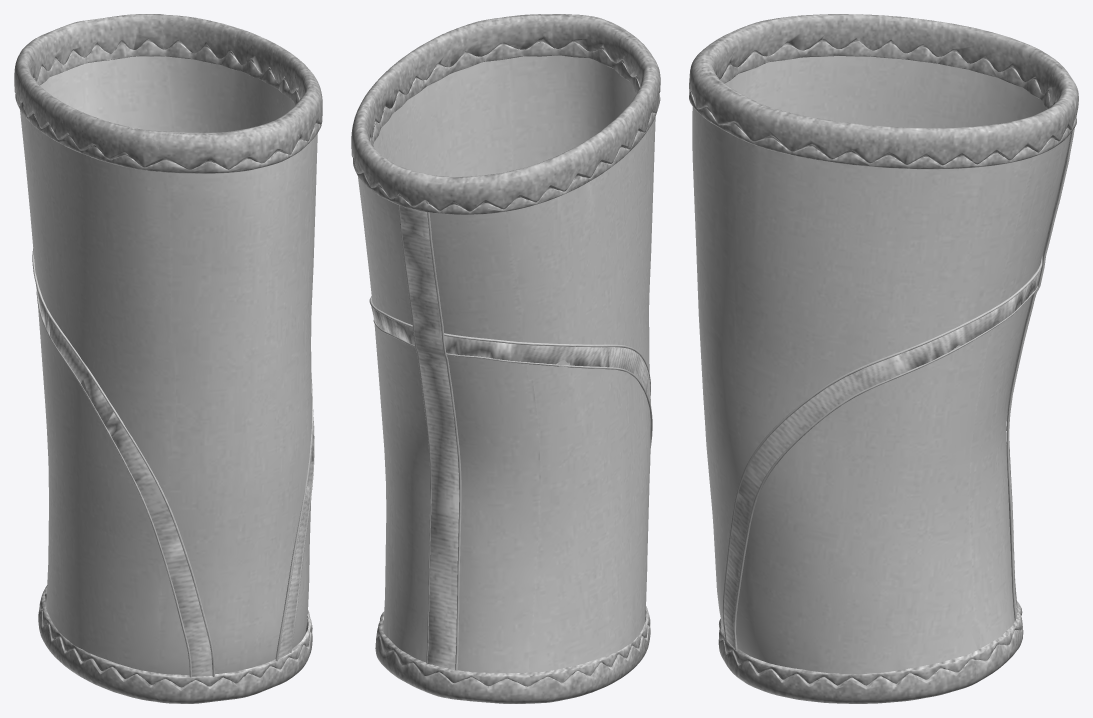
The model's file is white-stiff-sleeve.glb.
3 renders of one model, left to right at view 1: azimuth 30°, elevation 25°; view 2: azimuth 150°, elevation 25°; view 3: azimuth 270°, elevation 25°, orthographic. The views are drawn at different scales.
Visible parts, largest first — view 1: GEO-body_male_realistic.007; view 2: GEO-body_male_realistic.007; view 3: GEO-body_male_realistic.007.
Boxes of the visible parts, <box> form: GEO-body_male_realistic.007: <box>14,14,322,703</box>; GEO-body_male_realistic.007: <box>351,14,660,703</box>; GEO-body_male_realistic.007: <box>689,14,1078,703</box>.
Size of the model in its own units: 0.2137 by 0.4991 by 0.2971.
1 material, 1 textured.
